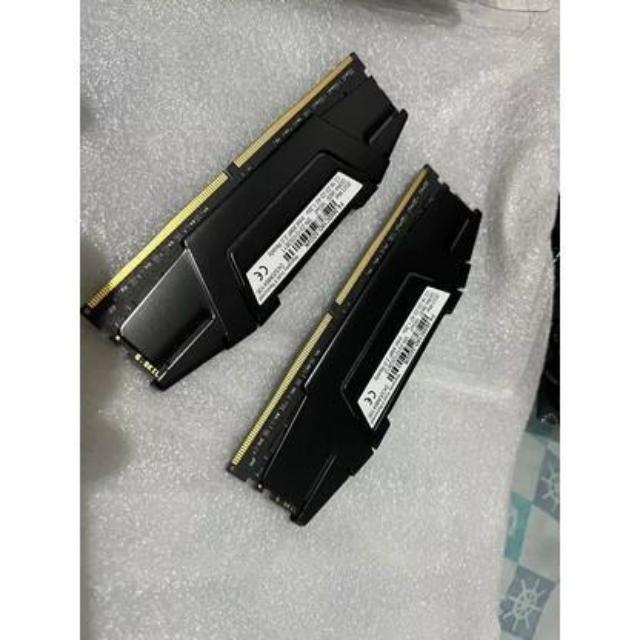RAM: (80, 48, 414, 392), (219, 162, 487, 532)
